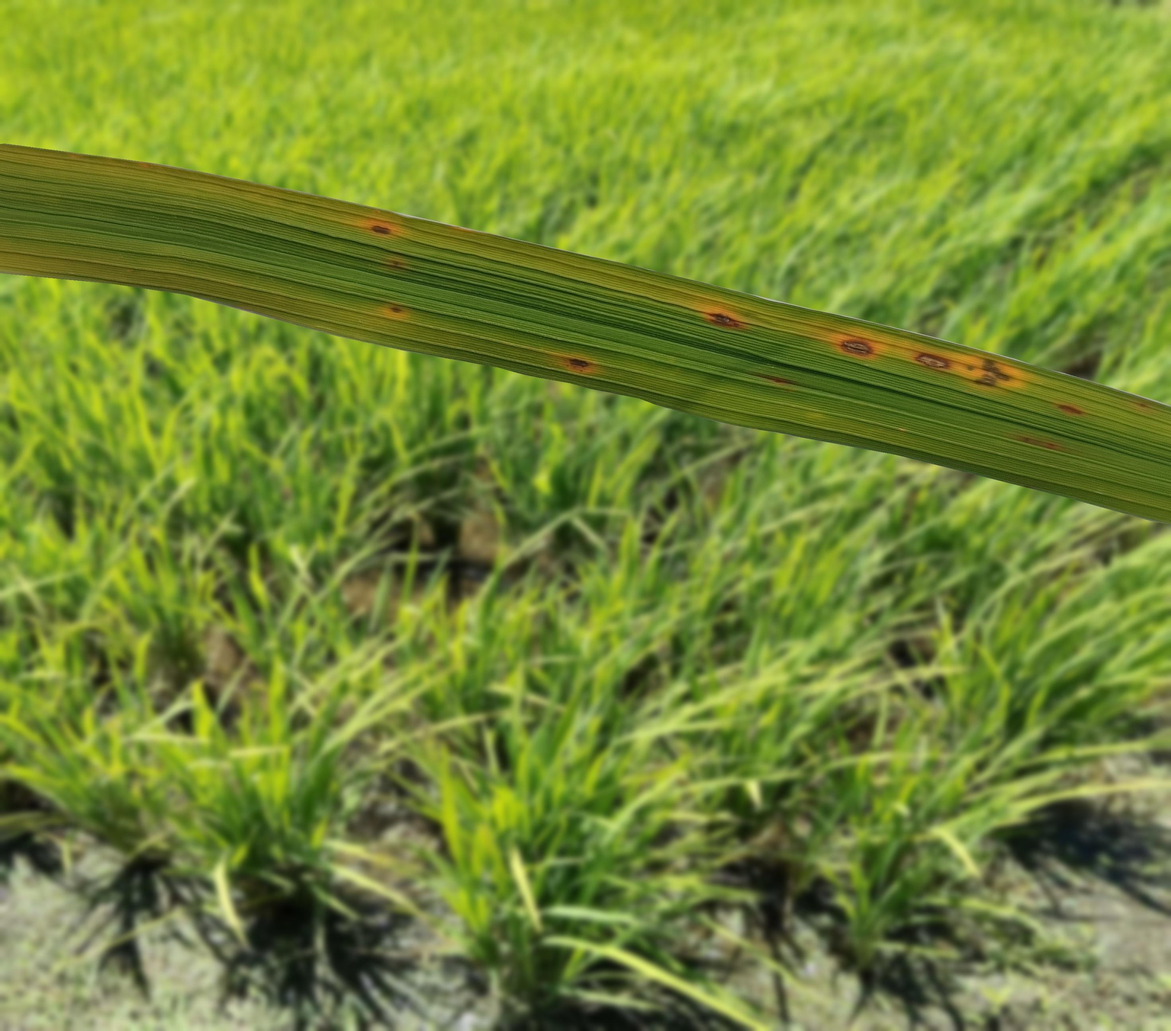LEAF BLAST: (705, 311, 744, 328), (916, 353, 951, 369), (840, 340, 873, 356), (570, 359, 588, 369)
